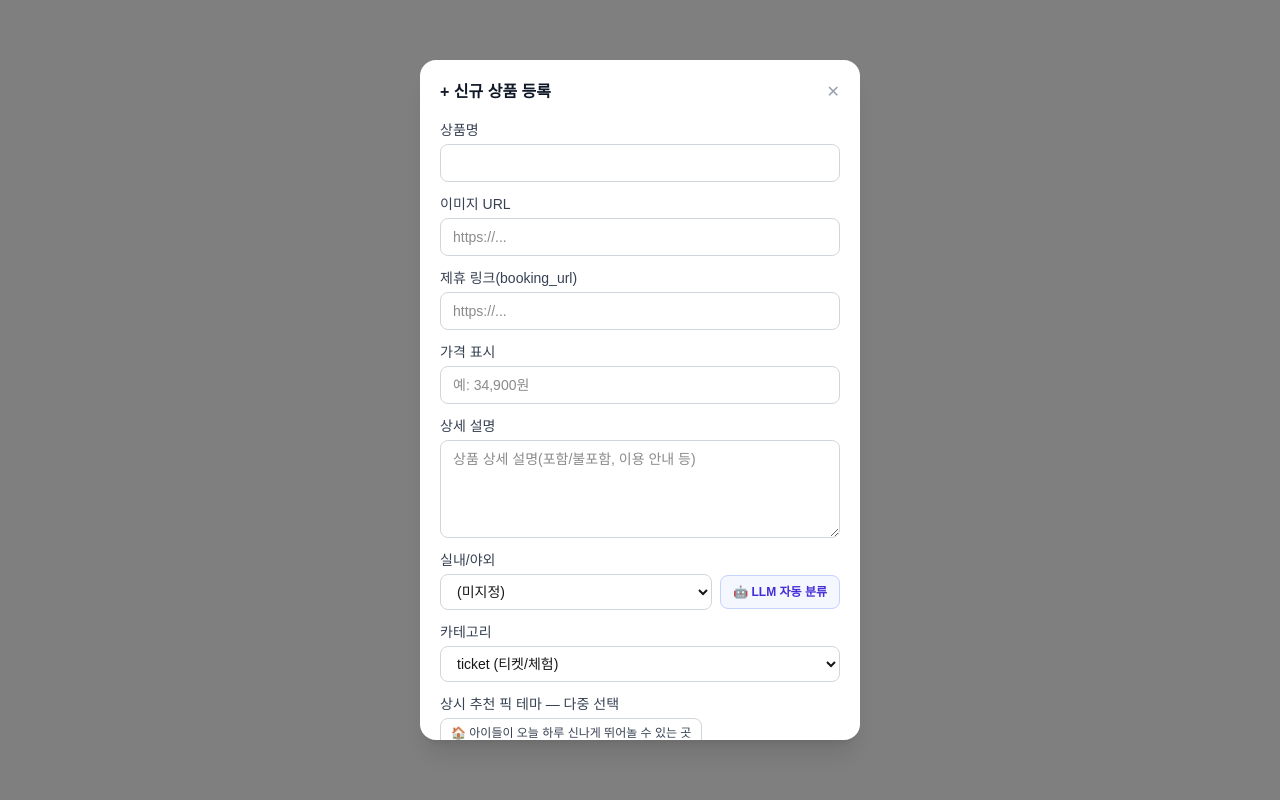
Test case: CuratedItemFormModal — 실내/야외 자동 분류(2026-09-17) › 상품명을 입력하지 않으면 분류를 시도하지 않고 안내 문구를 보여준다
Click the button "🤖 LLM 자동 분류".
click(780, 592)  # box x1=720 y1=575 x2=840 y2=609
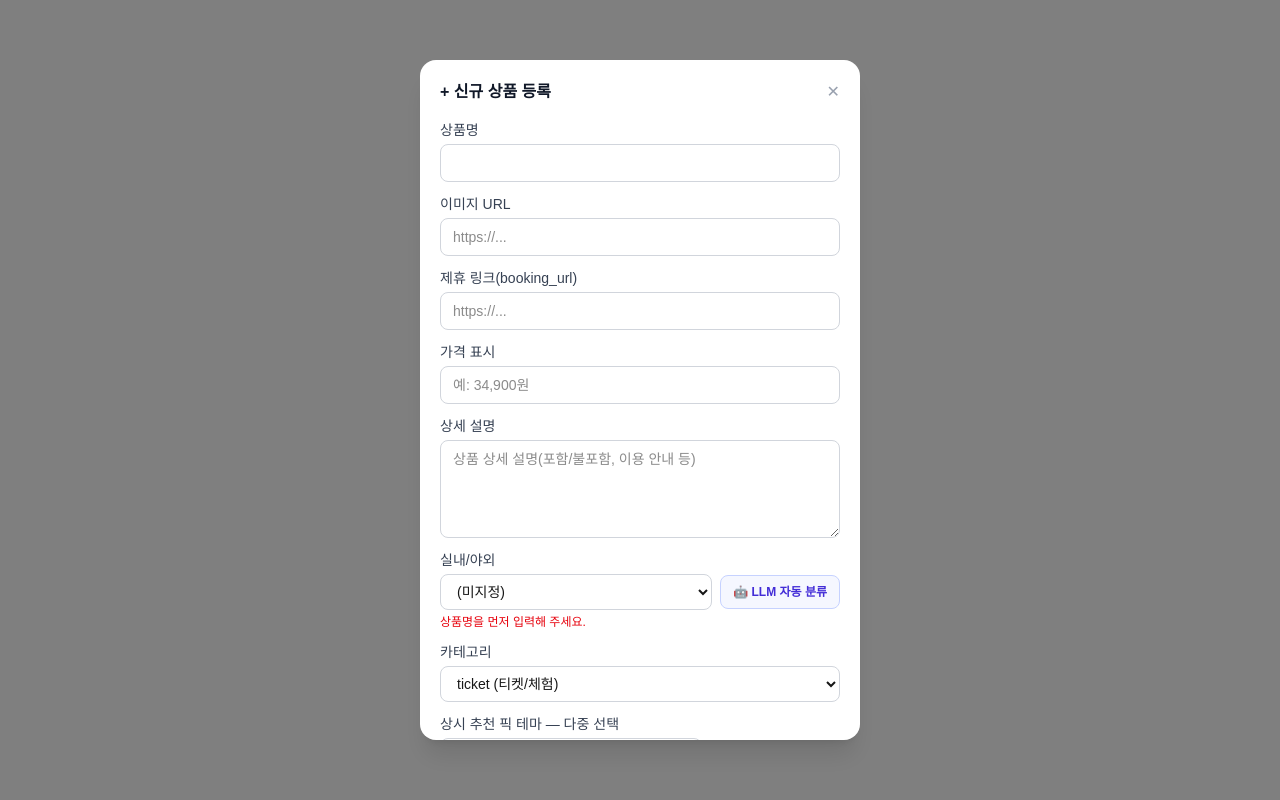
Now the text "상품명을 먼저 입력해 주세요." is shown, box x1=440 y1=615 x2=586 y2=629
